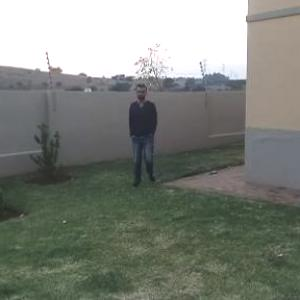follow: (127, 80, 164, 188)
